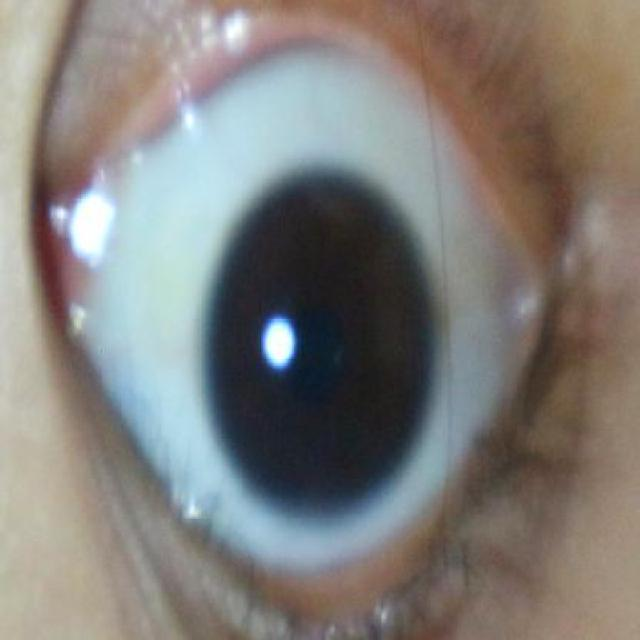Normal: (208, 174, 435, 519)
